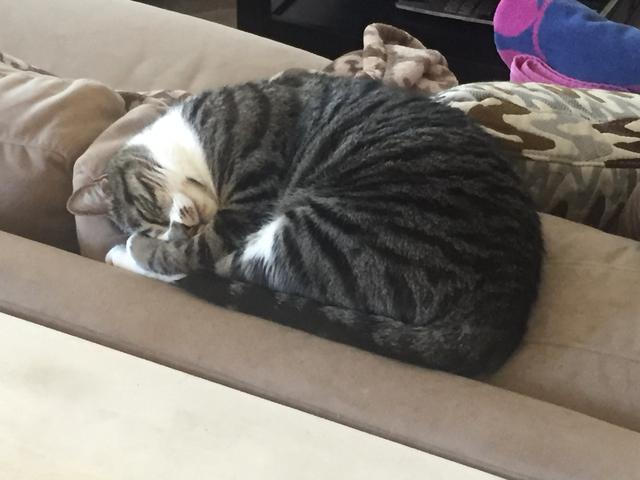playdoh: (62, 72, 547, 377)
